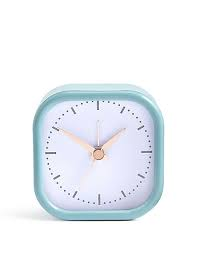alarm_clock: (26, 81, 167, 218)
